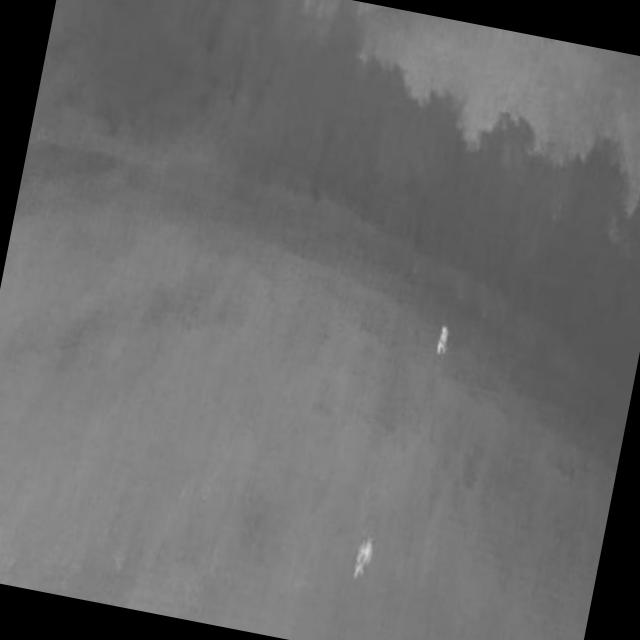person: (353, 538, 377, 584), (433, 326, 452, 359)
